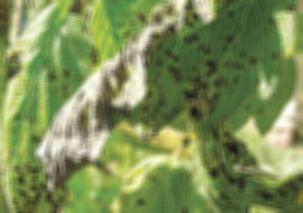Tomato Septoria leaf spot: (38, 0, 302, 176), (0, 0, 98, 213), (83, 153, 196, 213)
